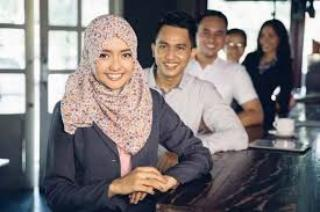person - v3 P: (70, 12, 166, 207), (148, 11, 200, 134), (250, 13, 304, 118), (197, 4, 234, 109), (226, 27, 244, 70)
